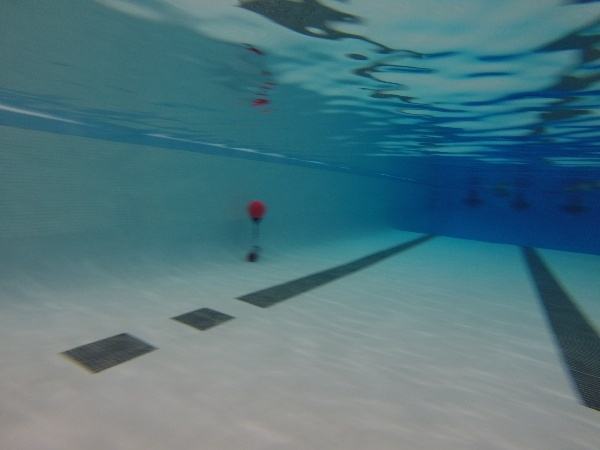buoy_red: (246, 197, 266, 223)
